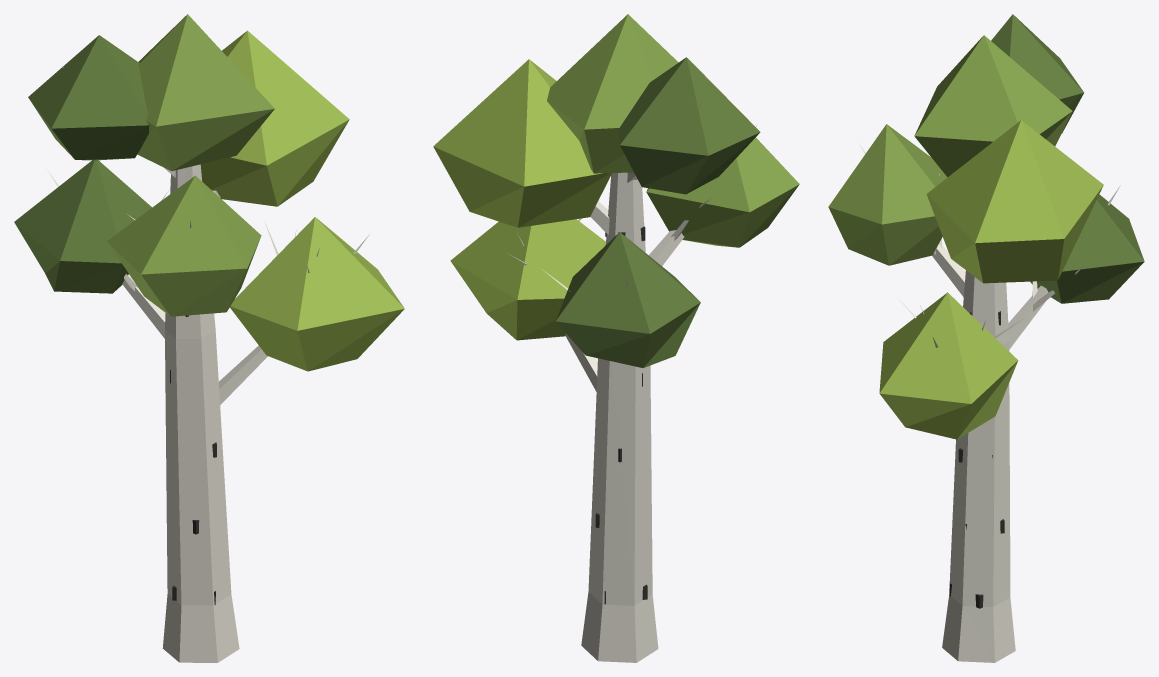
Rendered from tree_birch_1.obj.
The picture shows the model from 3 angles, left to right: view 1: azimuth 30°, elevation 25°; view 2: azimuth 150°, elevation 25°; view 3: azimuth 270°, elevation 25°; orthographic projection. The views are drawn at different scales.
Visible parts, largest first — view 1: tree_birch_1; view 2: tree_birch_1; view 3: tree_birch_1.
Part boxes in pixels (x1,y1,x2,y2): tree_birch_1: [14, 14, 404, 662]; tree_birch_1: [433, 14, 799, 662]; tree_birch_1: [828, 14, 1144, 662].
Size of the model in its own units: 0.5567 by 1.07 by 0.5006.
